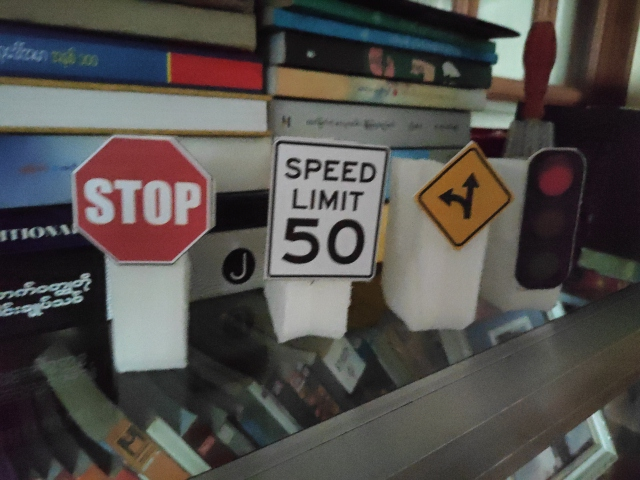Red Traffic Light: (515, 148, 586, 289)
Speed Limit 50: (265, 138, 388, 281)
Stop Sign: (72, 134, 215, 265)
Straight Or Left Sign: (418, 142, 514, 250)
